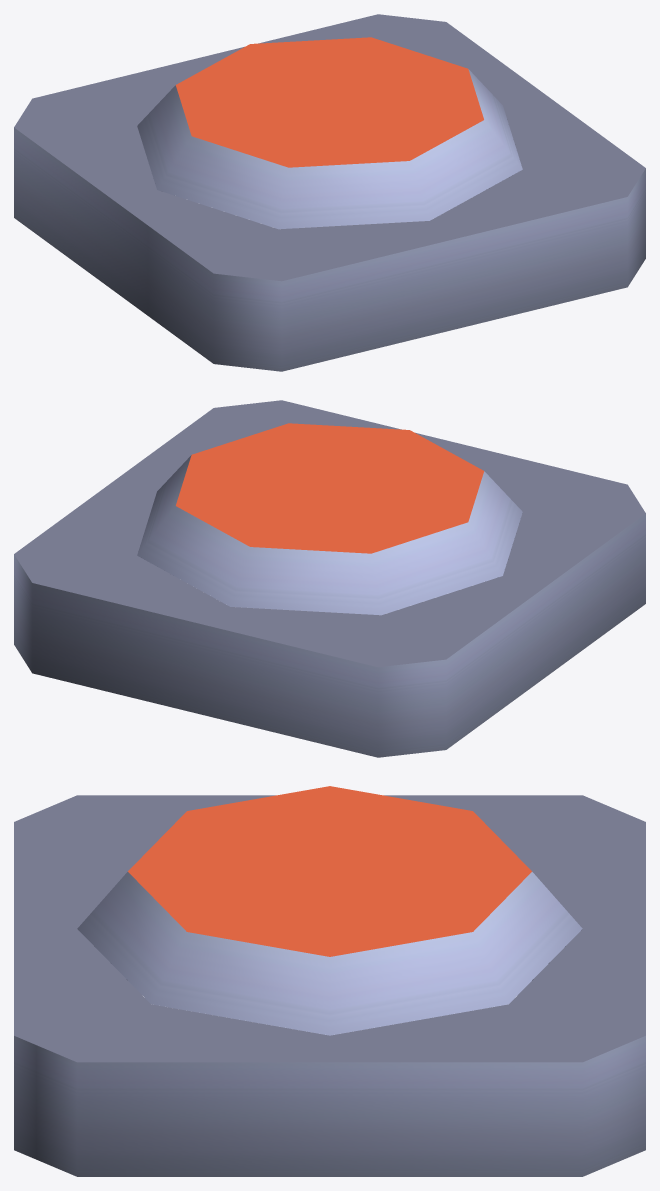
Rendered from kenney-prototype-button-floor-round.glb.
The picture shows the model from 3 angles, top to bottom: view 1: azimuth 30°, elevation 25°; view 2: azimuth 150°, elevation 25°; view 3: azimuth 270°, elevation 25°; orthographic projection. The views are drawn at different scales.
Parts seen in each view (by area): view 1: button-floor-round, button; view 2: button-floor-round, button; view 3: button-floor-round, button.
Boxes of the visible parts, bbox=[...] form: button-floor-round: bbox=[14, 14, 645, 371]; button: bbox=[137, 37, 522, 229]; button-floor-round: bbox=[14, 400, 645, 757]; button: bbox=[137, 423, 522, 615]; button-floor-round: bbox=[14, 795, 645, 1176]; button: bbox=[77, 786, 582, 1035].
Size of the model in its own units: 0.5 by 0.15 by 0.5.
Materials: 1 (1 with a texture image).
